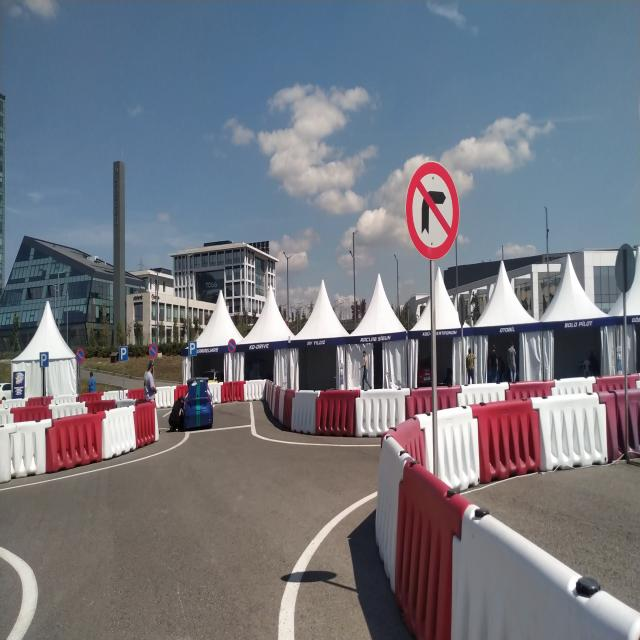forb_stopping: (75, 349, 85, 363), (149, 344, 158, 358), (228, 339, 236, 354)
